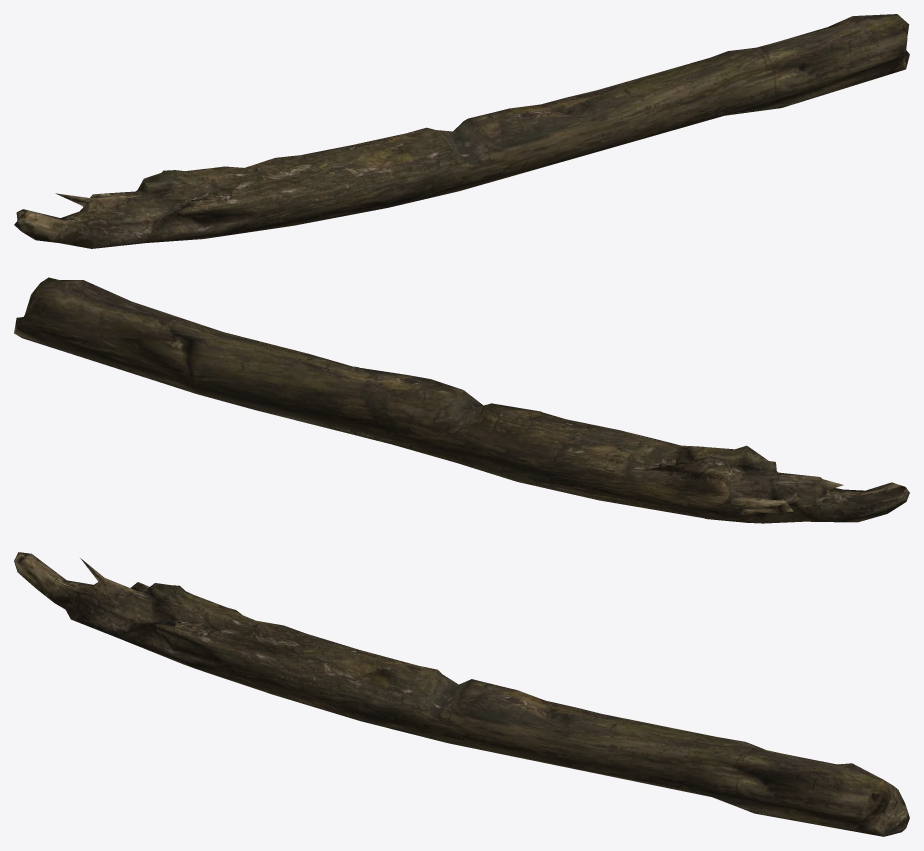
The model's file is dead_tree_trunk_lod1.glb.
3 views of the same model, one above another, from view 1: azimuth 30°, elevation 25°; view 2: azimuth 150°, elevation 25°; view 3: azimuth 330°, elevation 25° (orthographic).
Parts seen in each view (by area): view 1: dead_tree_trunk; view 2: dead_tree_trunk; view 3: dead_tree_trunk.
Part boxes in pixels (x1=…): dead_tree_trunk: x1=14, y1=14, x2=909, y2=248; dead_tree_trunk: x1=14, y1=277, x2=909, y2=523; dead_tree_trunk: x1=14, y1=552, x2=909, y2=836.
Size of the model in its own units: 3.04 by 0.2765 by 0.2717.
Materials: 1 (1 with a texture image).
